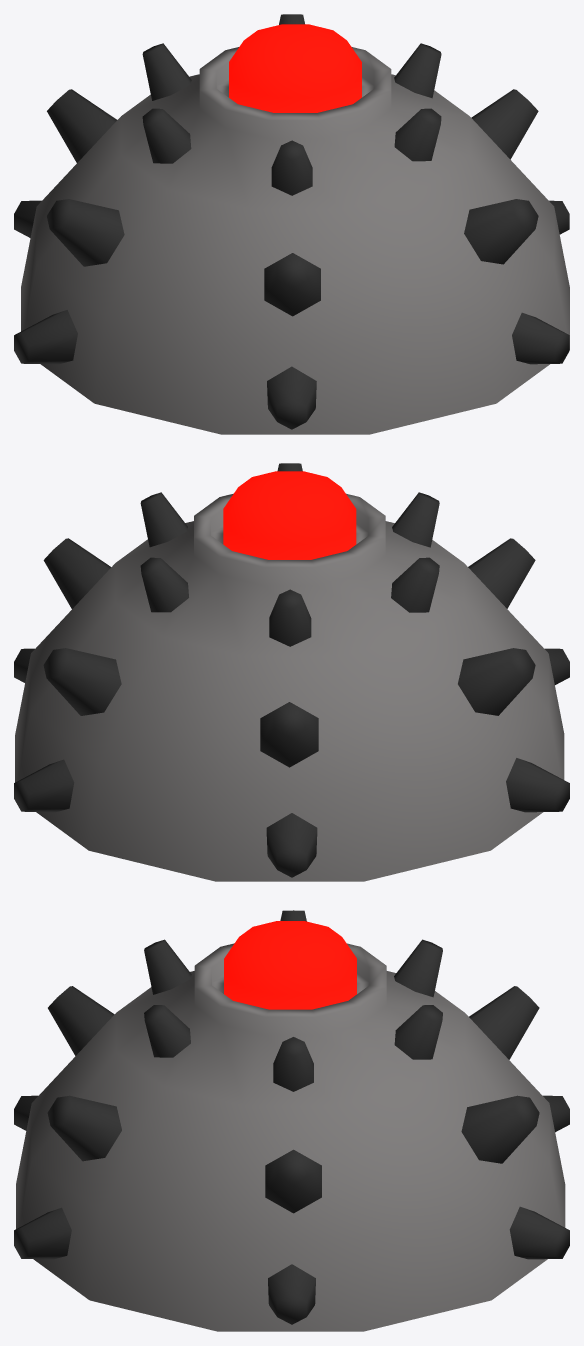
Rendered from landmine.fbx.
3 renders of one model, top to bottom at view 1: azimuth 30°, elevation 25°; view 2: azimuth 150°, elevation 25°; view 3: azimuth 270°, elevation 25°, orthographic.
Visible parts, largest first — view 1: Circle.001; view 2: Circle.001; view 3: Circle.001.
Part boxes in pixels (box(x1,y1,x2,y2)): Circle.001: box(14, 14, 569, 434); Circle.001: box(14, 463, 569, 881); Circle.001: box(14, 910, 569, 1331).
Bounding box in the file's own units: 220 × 110 × 196.
